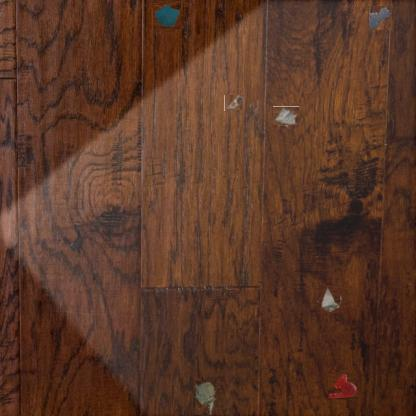dirty: (193, 381, 217, 415), (154, 1, 180, 29), (316, 287, 341, 311), (275, 105, 298, 127), (224, 96, 245, 112)
liquid: (329, 370, 357, 400), (368, 6, 392, 30)
